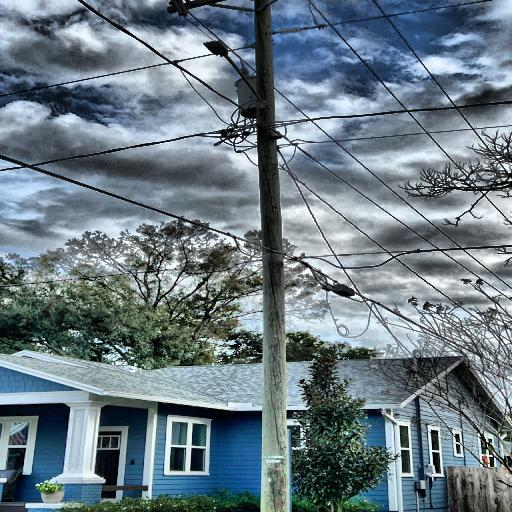pole: (247, 0, 311, 512)
street light: (198, 39, 271, 111)
transformer: (232, 72, 278, 120)
